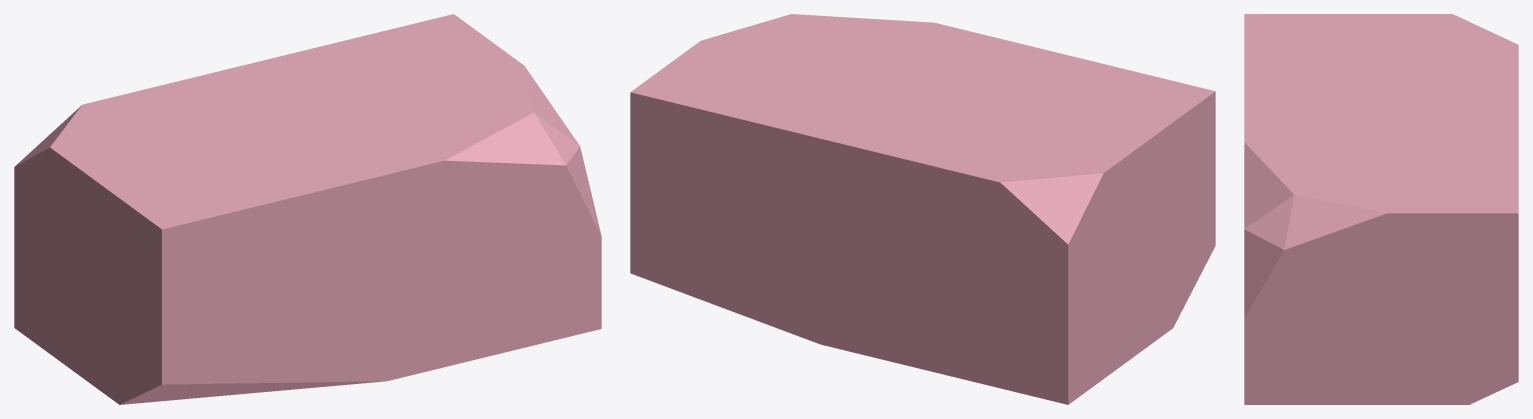
File: Brick.fbx
3 views of the same model, side by side, from view 1: azimuth 30°, elevation 25°; view 2: azimuth 150°, elevation 25°; view 3: azimuth 270°, elevation 25° (orthographic). The views are drawn at different scales.
Visible parts, largest first — view 1: Brick; view 2: Brick; view 3: Brick.
Part boxes in pixels (x1=…): Brick: x1=14, y1=14, x2=601, y2=404; Brick: x1=630, y1=14, x2=1215, y2=404; Brick: x1=1244, y1=14, x2=1518, y2=404.
Size of the model in its own units: 43.2 by 19.4 by 25.18.
